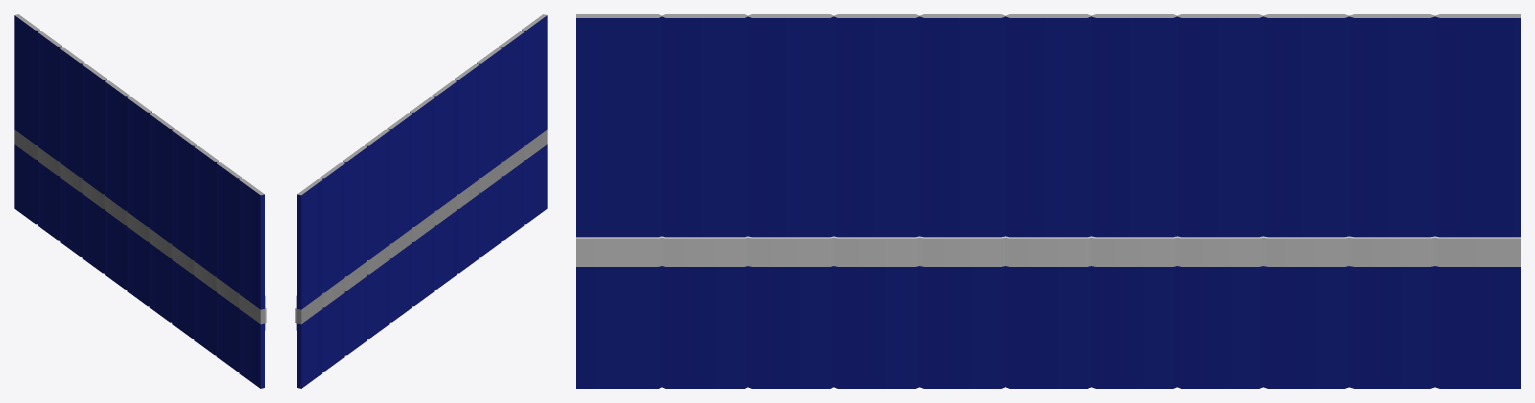
The model's file is divider2.fbx.
3 renders of one model, left to right at view 1: azimuth 30°, elevation 25°; view 2: azimuth 150°, elevation 25°; view 3: azimuth 270°, elevation 25°, orthographic. The views are drawn at different scales.
Visible parts, largest first — view 1: divider2; view 2: divider2; view 3: divider2.
Part boxes in pixels (<box>): divider2: <box>14,14,266,388</box>; divider2: <box>295,14,547,388</box>; divider2: <box>576,14,1520,388</box>.
Bounding box in the file's own units: 21.05 × 650 × 1500.
